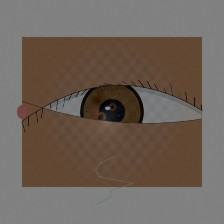foreign_body_visible: (104, 100, 121, 114)
